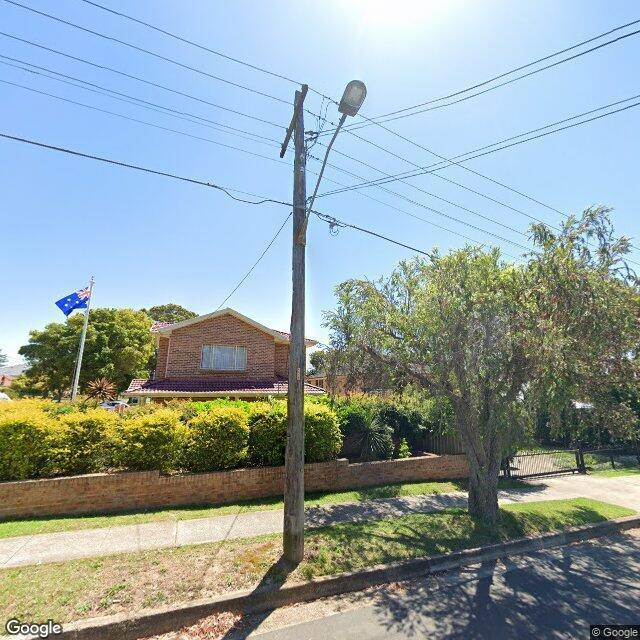crossarm: (280, 84, 308, 158)
streetlight: (297, 80, 369, 245)
timber-pole: (284, 90, 306, 564)
